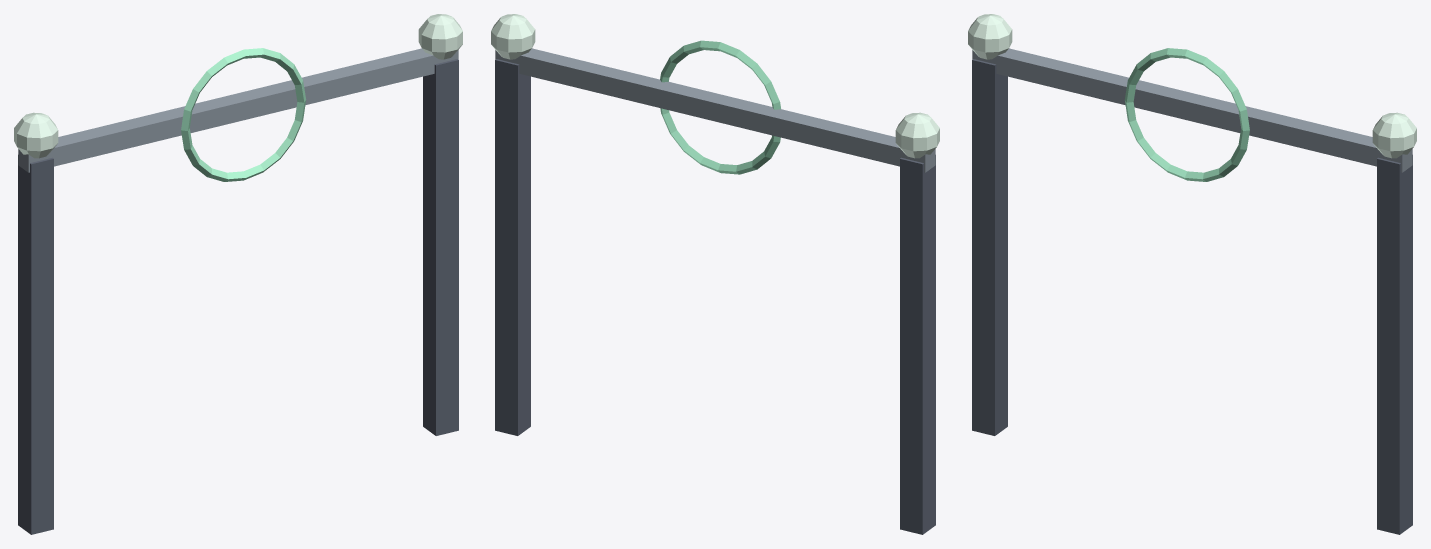
File: arco_meta.glb
3 renders of one model, left to right at view 1: azimuth 30°, elevation 25°; view 2: azimuth 150°, elevation 25°; view 3: azimuth 330°, elevation 25°, orthographic.
Parts seen in each view (by area): view 1: arco_meta; view 2: arco_meta; view 3: arco_meta.
Part boxes in pixels (left/top/right/bottom): arco_meta: left=14, top=14, right=462, bottom=534; arco_meta: left=491, top=14, right=939, bottom=534; arco_meta: left=968, top=14, right=1416, bottom=534.
Size of the model in its own units: 3.5 by 3.27 by 0.2894.
